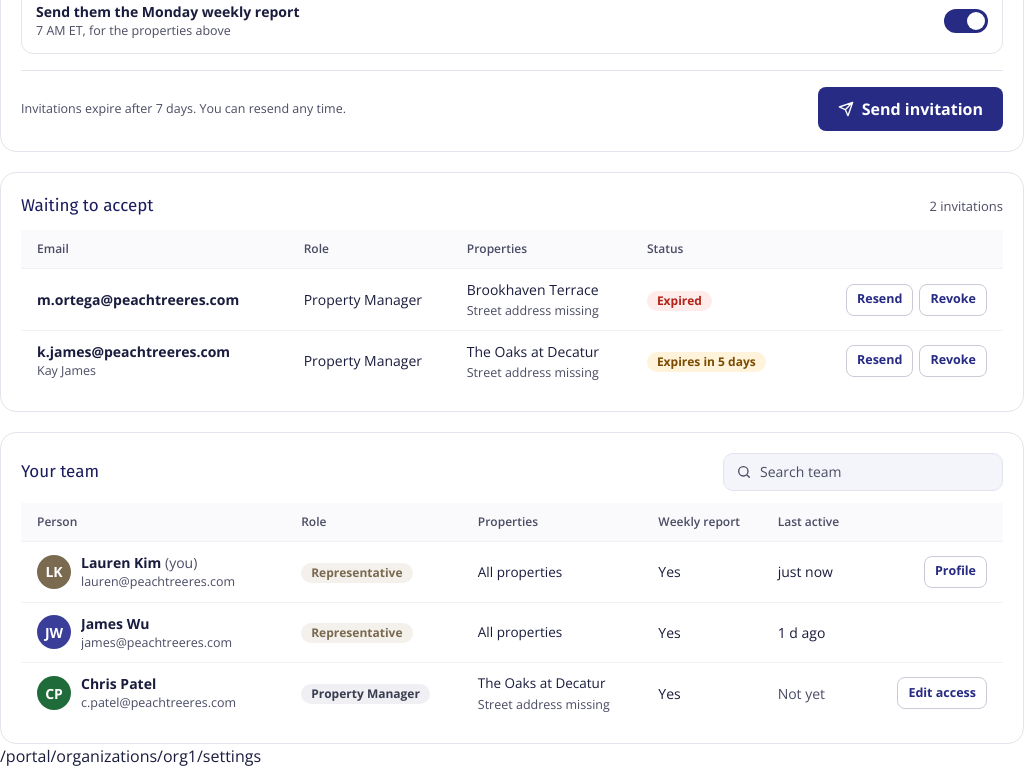
Test: TeamSettingsPage › removes a manager after confirming
(page scrolled)
Step 1. Click the button with aria-label "Edit access for Chris Patel" → (942, 693), box [897,677,987,709]
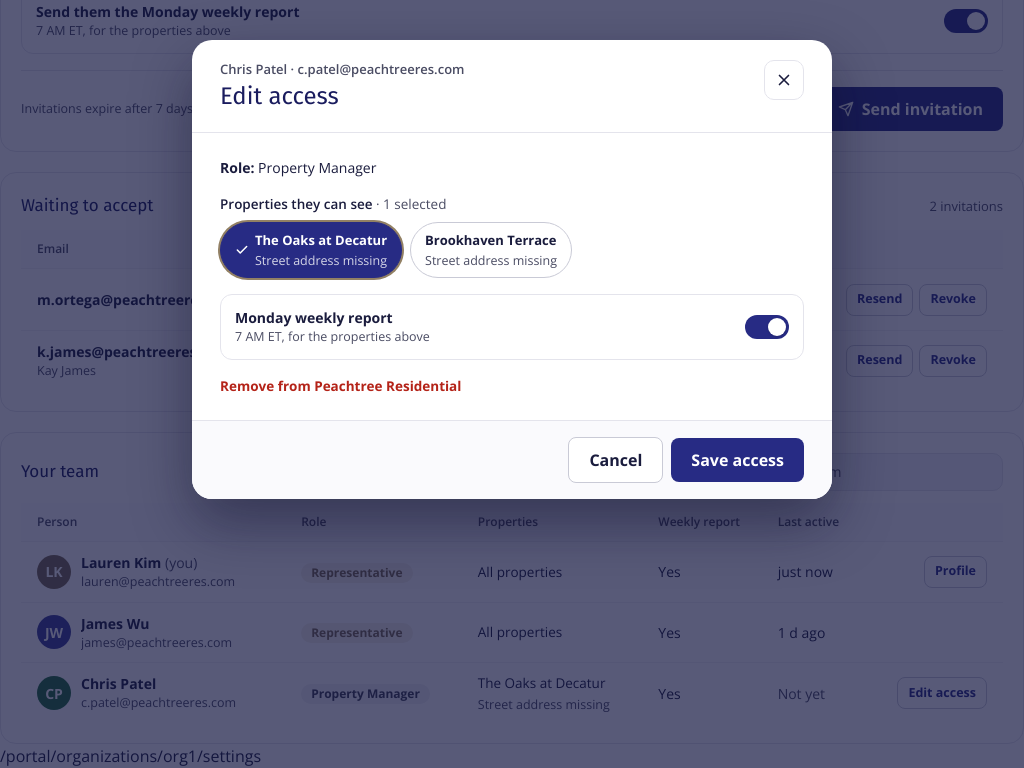
Step 2. Click the button "Remove from Peachtree Residential" → (341, 386), box [220,376,461,396]
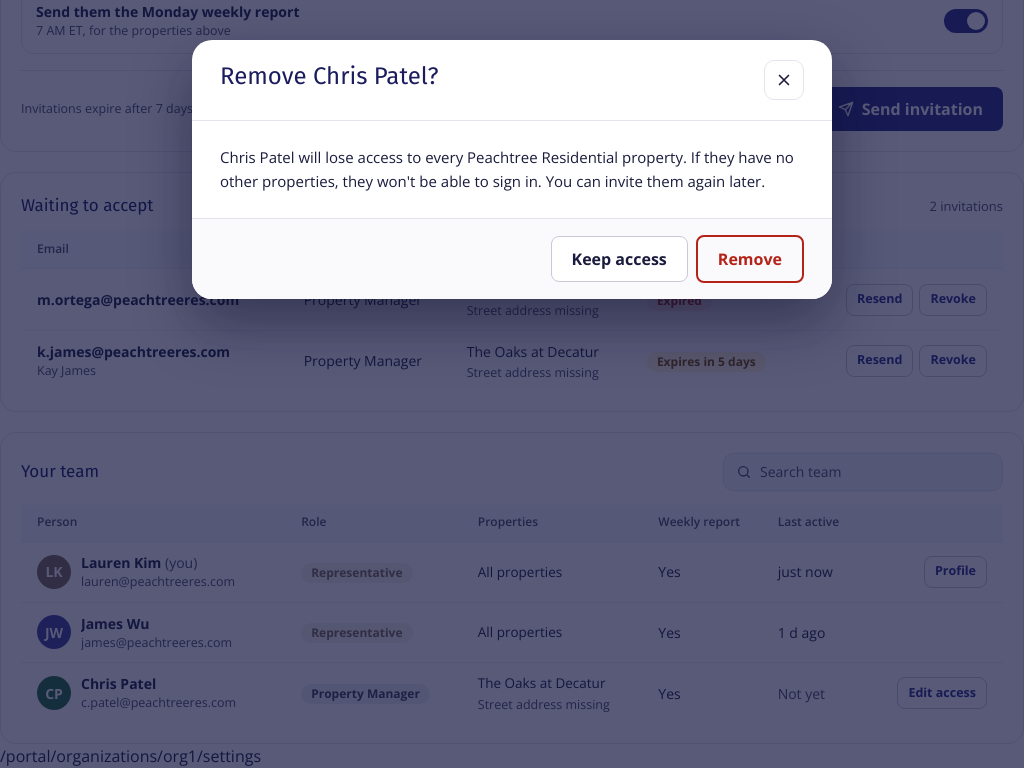
Expected: the text "lose access to every Peachtree Residential property" is shown, [220,145,804,194]
Step 3. Click the button "Remove" → (750, 259), box [696,235,804,283]
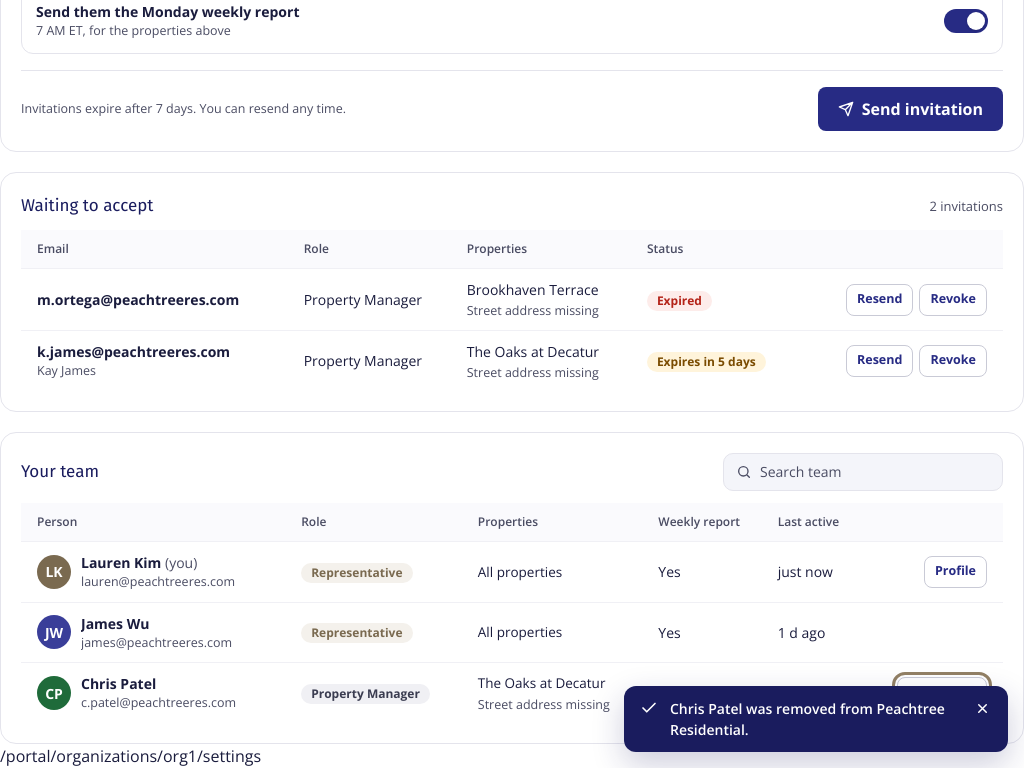
Expected: the text "Chris Patel was removed from Peachtree Residential." is shown, [670,698,960,740]
